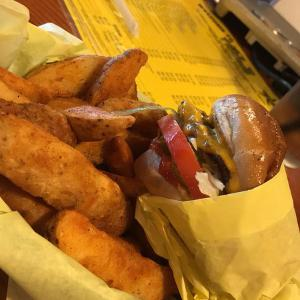fries: (6, 41, 144, 276)
